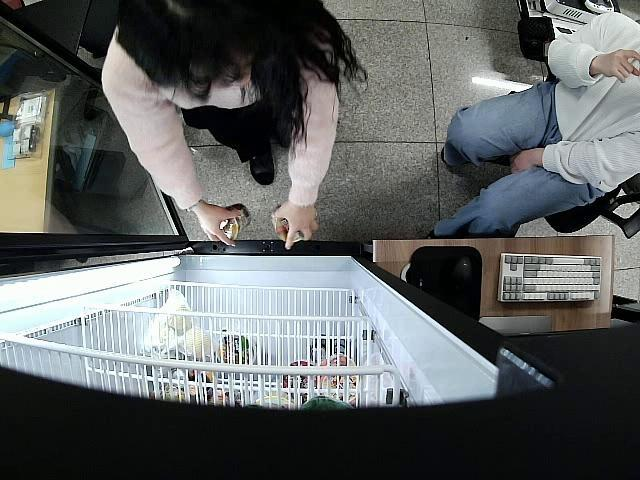04_chapagetti_S: (269, 198, 308, 242), (212, 201, 248, 240)
